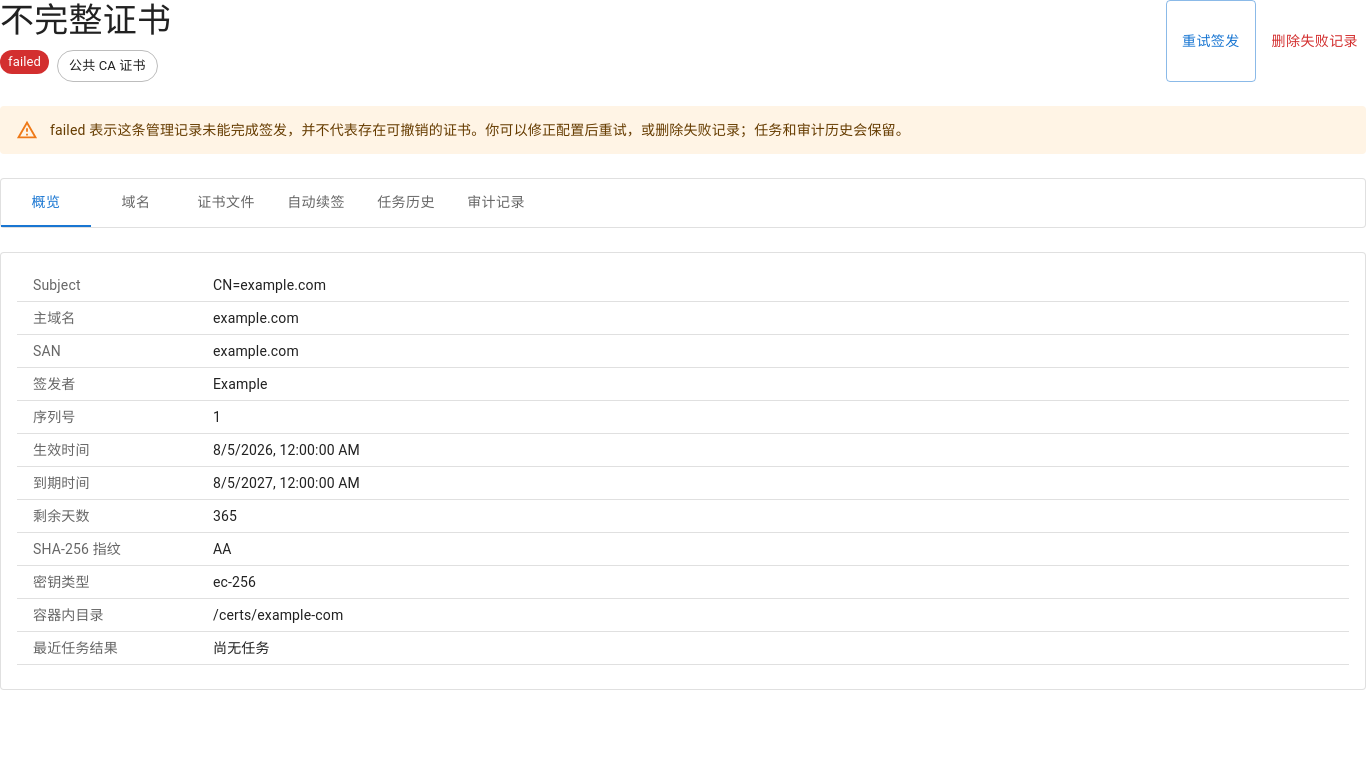
Scenario: 删除文件备份失败时显示后端安全提示
Click the button "删除失败记录" at (1315, 41), box [1264,0,1365,82]
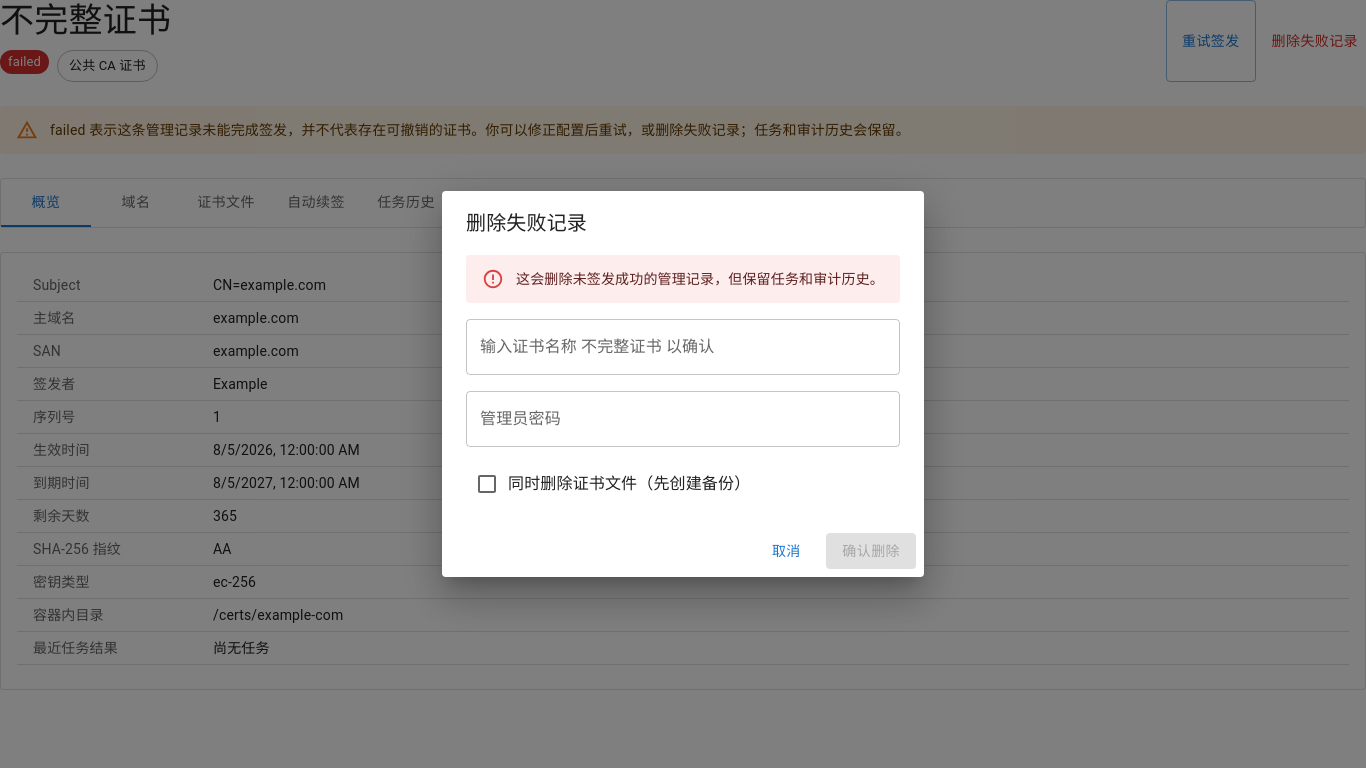
Click the checkbox labelled "同时删除证书文件（先创建备份）" at (613, 484), box [475,472,750,496]
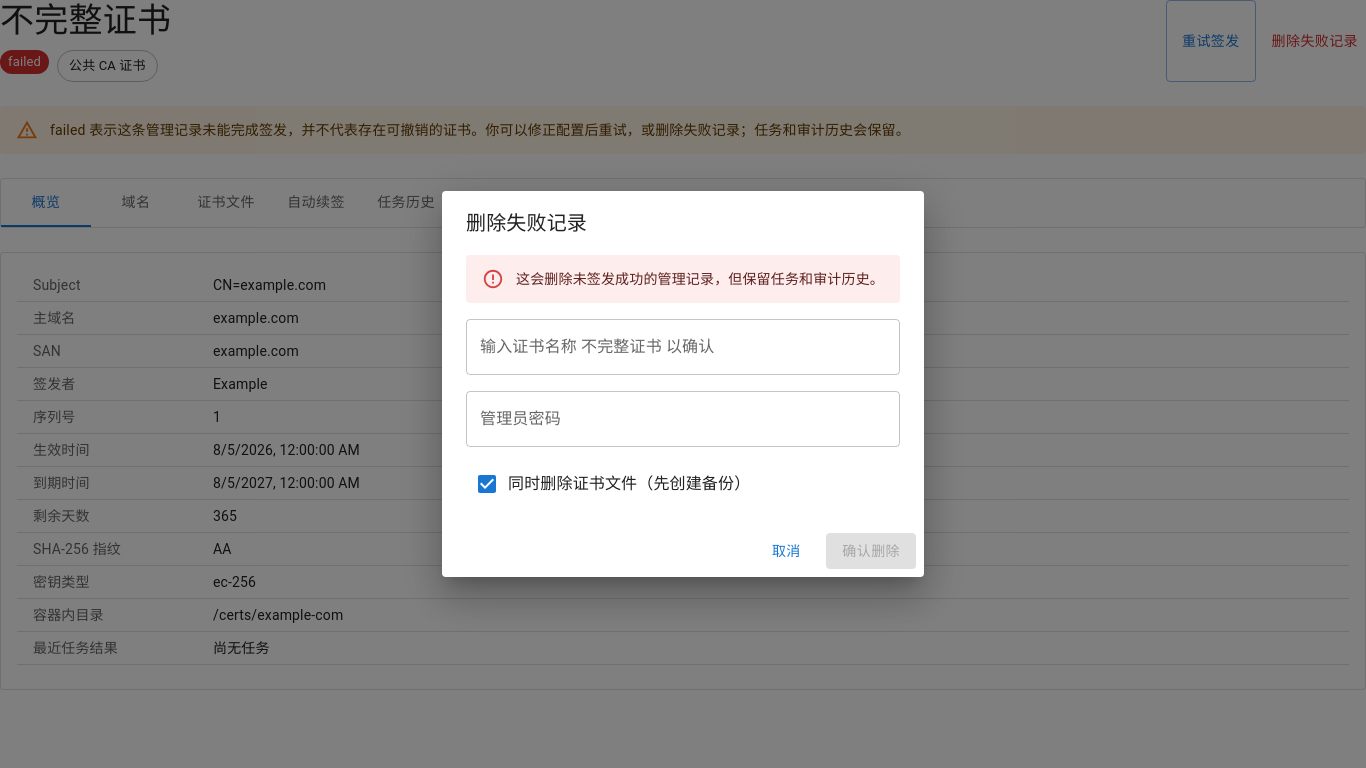
Type "不完整证书" into the field labelled "输入证书名称 不完整证书 以确认" at (683, 347), box [466,319,900,375]
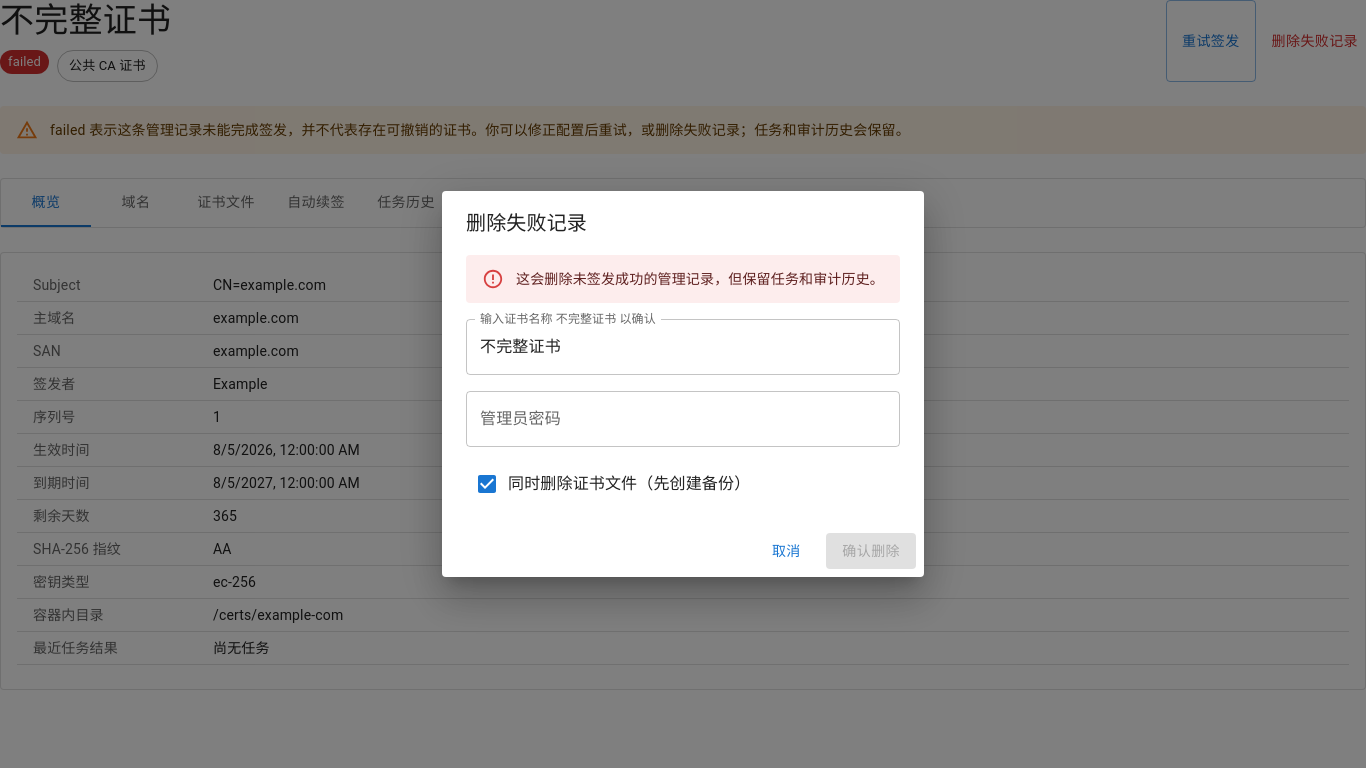
Type "correct-password" into the password field labelled "管理员密码" at (683, 419), box [466,391,900,447]
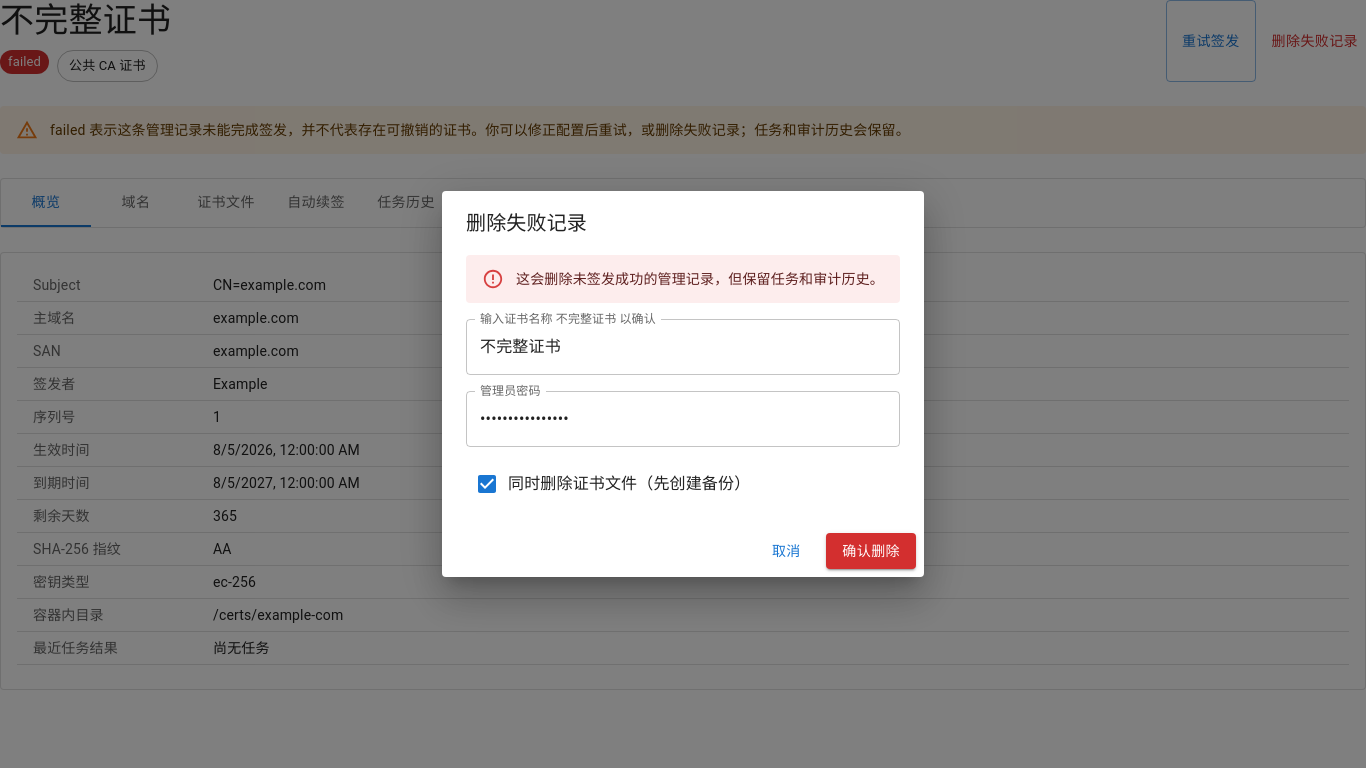
Click the button "确认删除" at (871, 551), box [826,533,916,569]
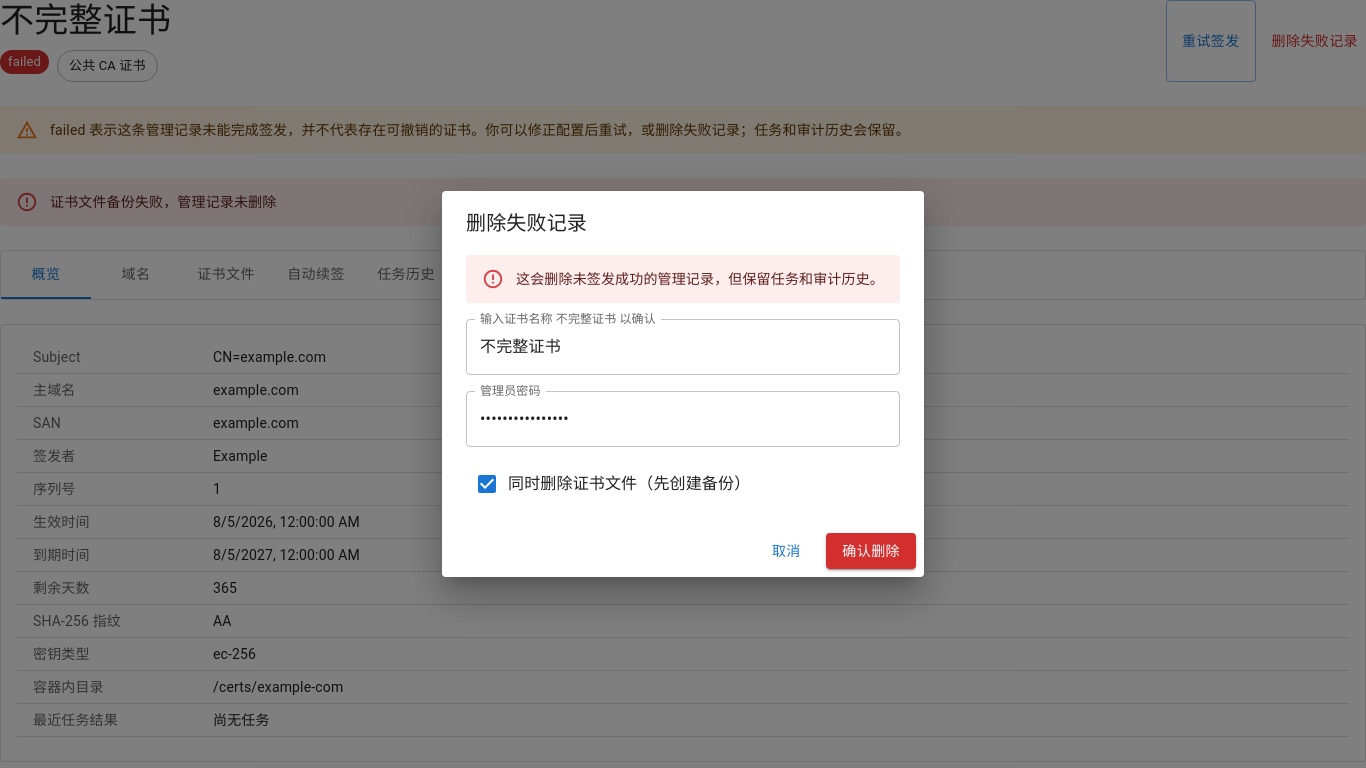
Now the text "证书文件备份失败，管理记录未删除" is shown, box [50,194,276,210]
